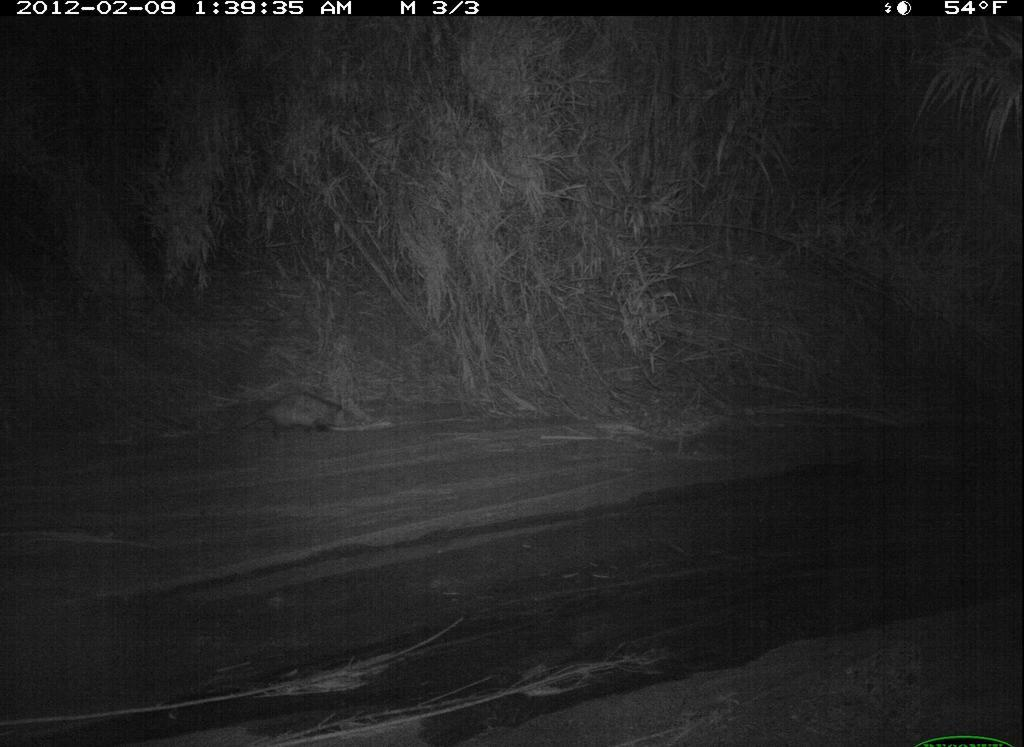opossum: (223, 374, 369, 445)
